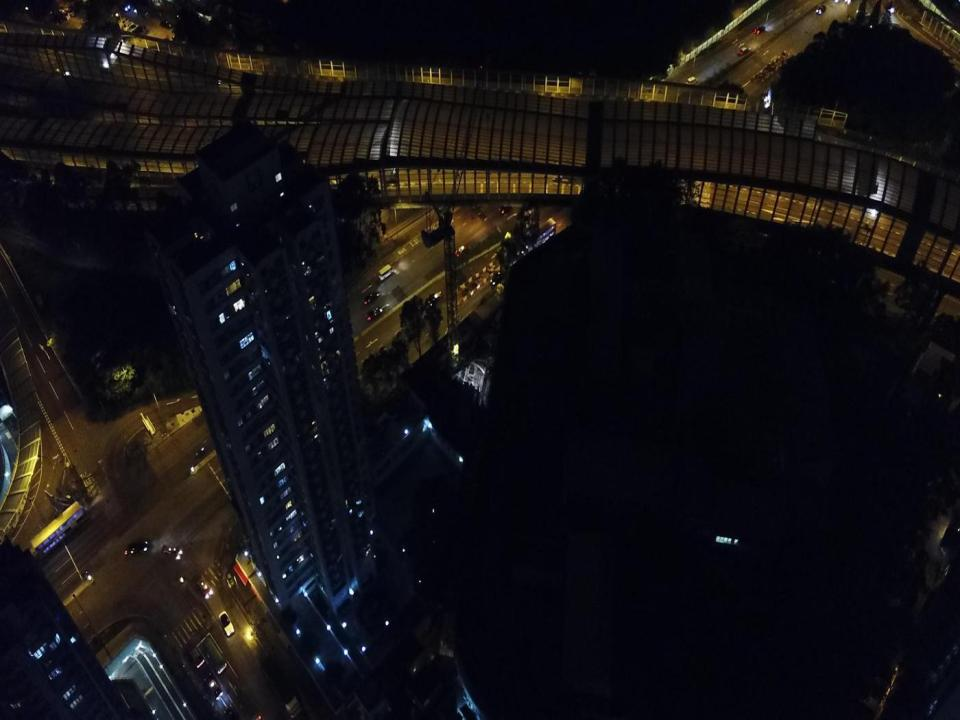bus: (202, 636, 227, 674)
car: (189, 647, 212, 682), (194, 573, 212, 599), (218, 610, 235, 636), (124, 539, 148, 557), (208, 679, 223, 701), (161, 545, 182, 559), (362, 290, 381, 305), (365, 307, 383, 322), (427, 290, 442, 306), (454, 244, 470, 258), (498, 201, 514, 214), (132, 23, 146, 36), (685, 76, 699, 88), (122, 20, 135, 32), (118, 18, 130, 30), (737, 46, 750, 56), (160, 19, 173, 29), (128, 23, 139, 34), (754, 24, 766, 34), (816, 4, 826, 15)
truck: (260, 655, 301, 718)
van: (378, 263, 394, 281)
